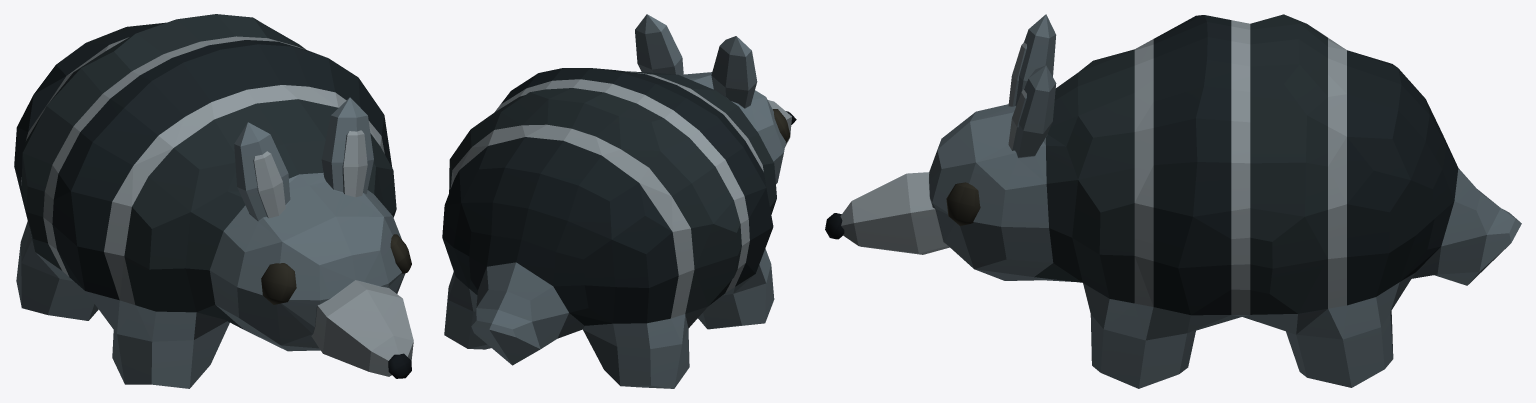
File: Antimatter_Armadillo.glb
The picture shows the model from 3 angles, left to right: view 1: azimuth 30°, elevation 25°; view 2: azimuth 150°, elevation 25°; view 3: azimuth 270°, elevation 25°; orthographic projection. The views are drawn at different scales.
Parts seen in each view (by area): view 1: Hunt_Antimatter_Armadillo; view 2: Hunt_Antimatter_Armadillo; view 3: Hunt_Antimatter_Armadillo.
Part boxes in pixels (box(x1,y1,x2,y2)): Hunt_Antimatter_Armadillo: box(14, 14, 413, 388); Hunt_Antimatter_Armadillo: box(442, 14, 796, 388); Hunt_Antimatter_Armadillo: box(825, 14, 1521, 388).
Bounding box in the file's own units: 0.3677 × 0.3099 × 0.6626.
